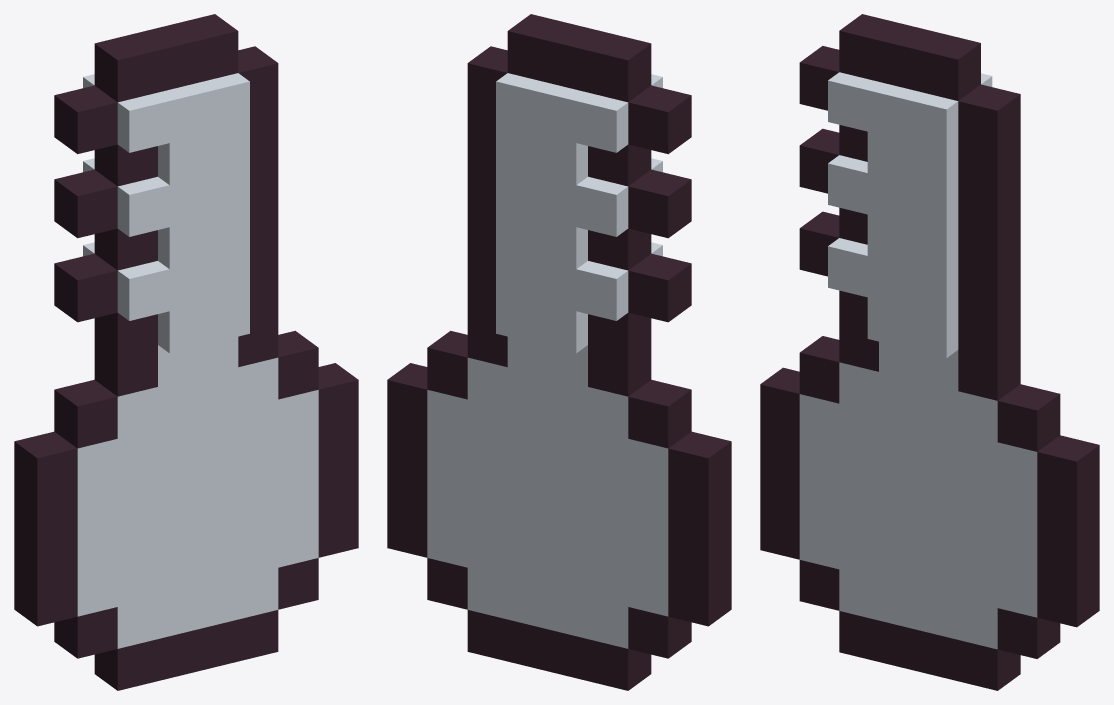
Rendered from Circle Key.fbx.
The picture shows the model from 3 angles, left to right: view 1: azimuth 30°, elevation 25°; view 2: azimuth 150°, elevation 25°; view 3: azimuth 330°, elevation 25°; orthographic projection.
Visible parts, largest first — view 1: generated; view 2: generated; view 3: generated.
Boxes of the visible parts, bbox=[...] form: generated: bbox=[14, 14, 358, 690]; generated: bbox=[387, 14, 731, 690]; generated: bbox=[760, 14, 1099, 690].
Size of the model in its own units: 320 by 600 by 80.
